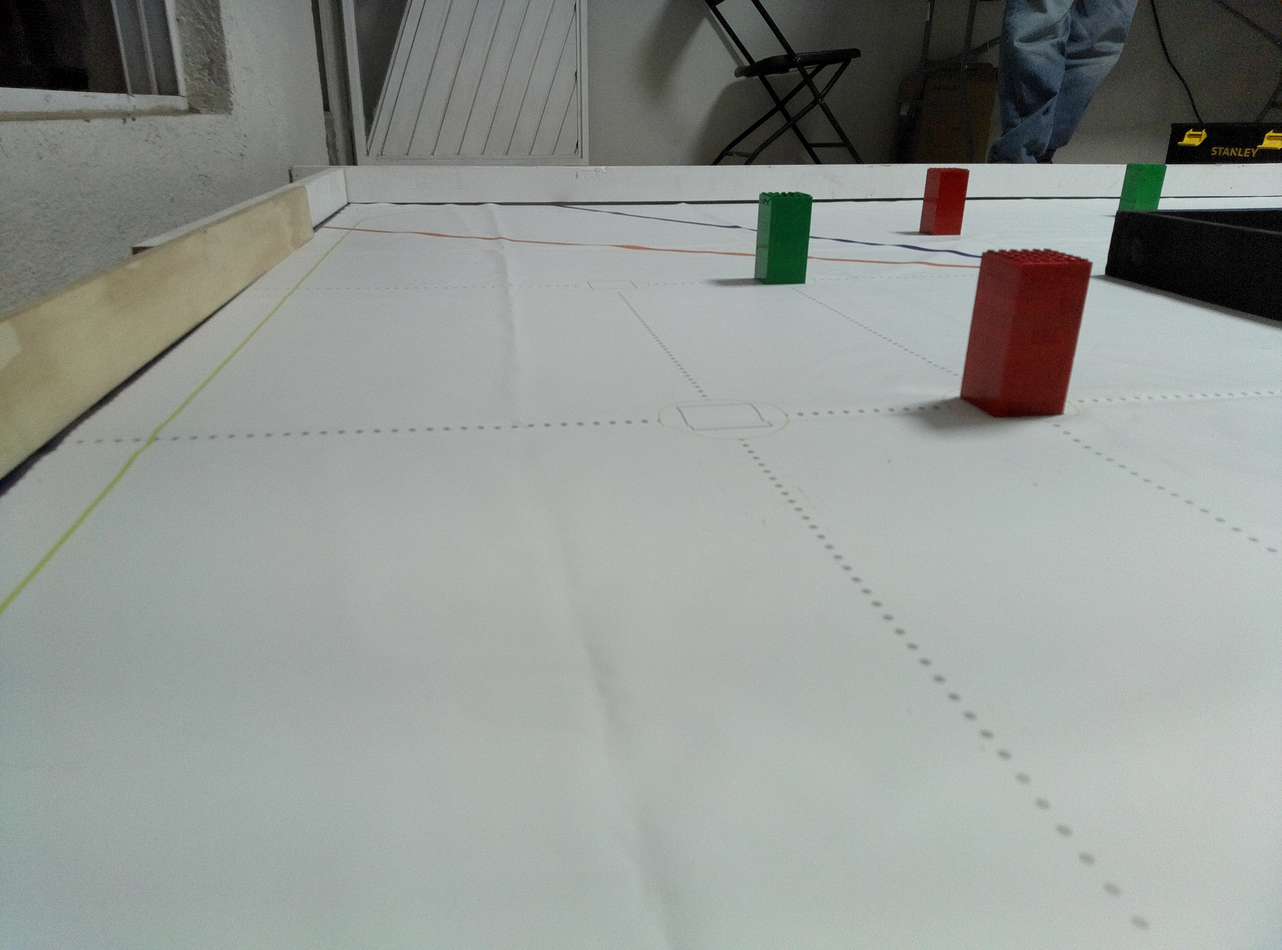greenbox: (752, 191, 816, 287), (1117, 161, 1168, 211)
redbox: (956, 248, 1095, 419), (917, 167, 970, 237)
